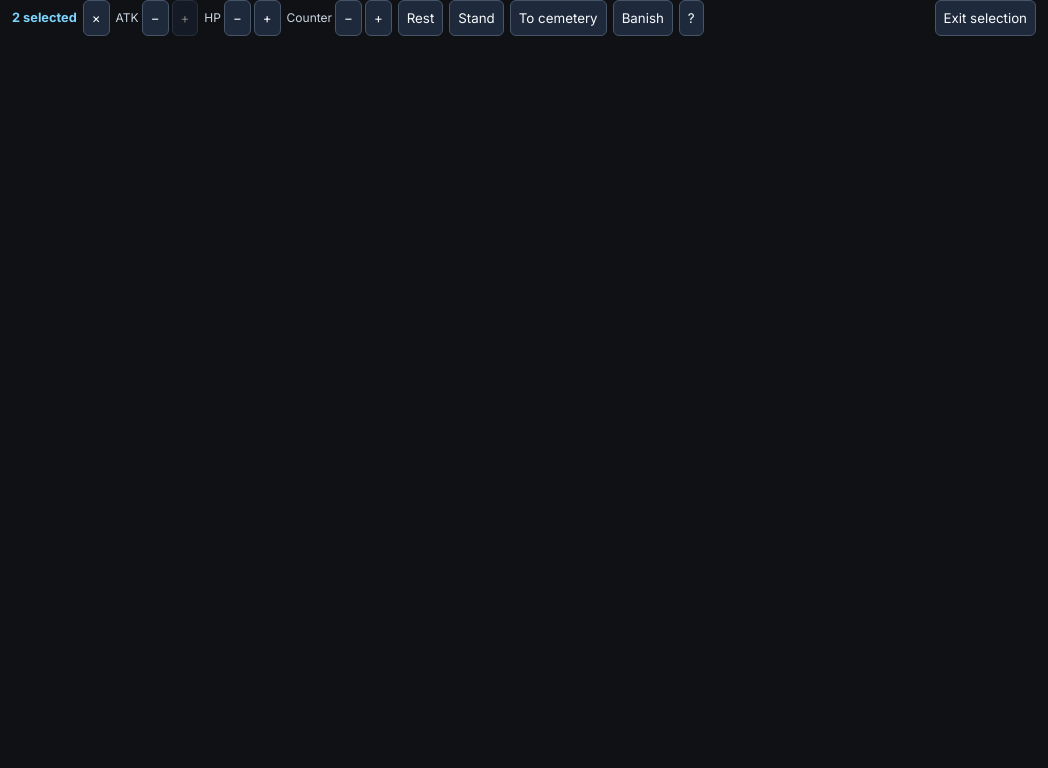
Test case: keeps instructions collapsed until help is opened
Check: the text "Select or deselect cards in both players’ Field / EX. Press Escape to exit." is not shown
Click the button named "Selection help": (691, 18) [679, 0, 704, 36]
(page scrolled)
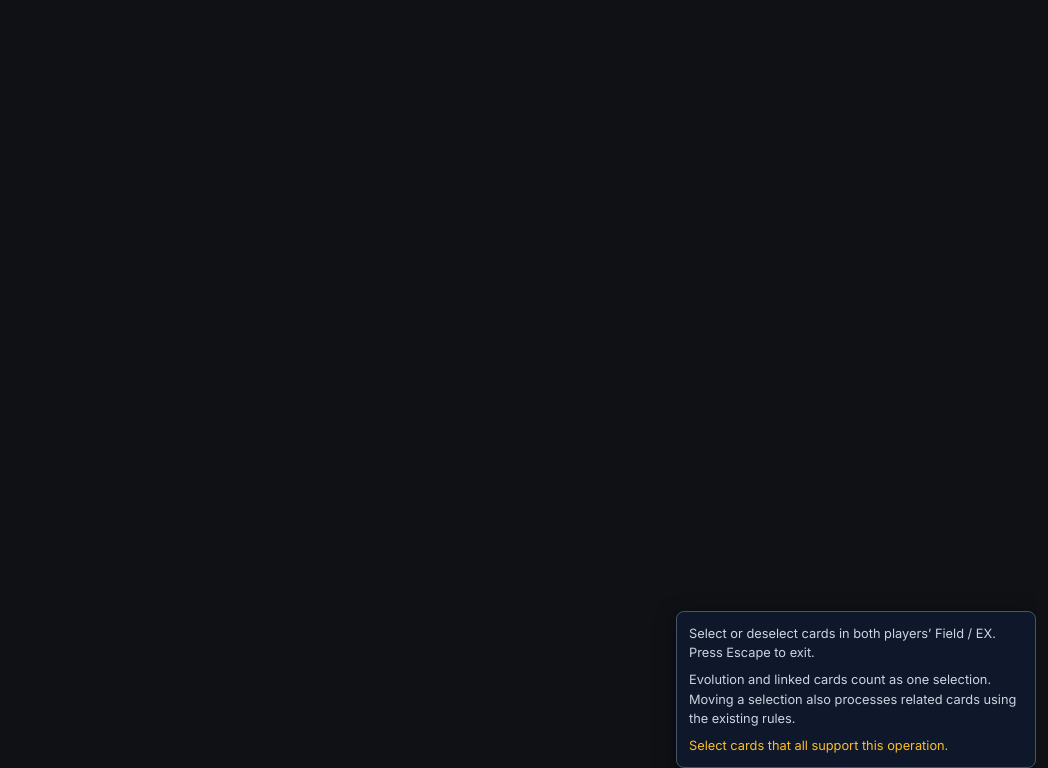
Check: the element with test id "multi-selection-help" is shown, box [676, 611, 1036, 767]
